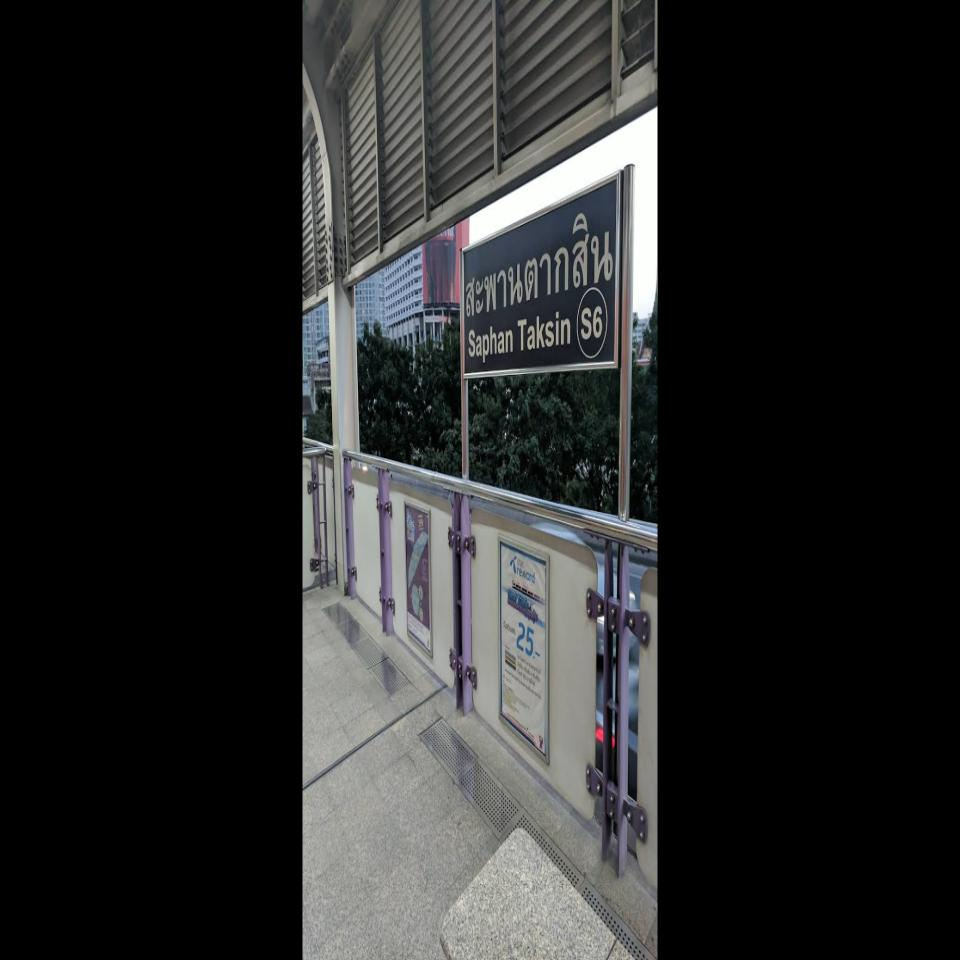signage: (461, 169, 623, 381)
